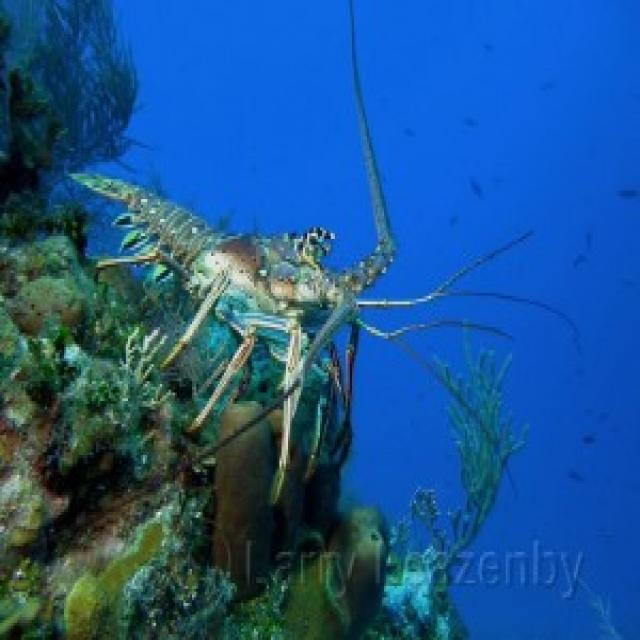lobsters: (1, 0, 495, 517)
